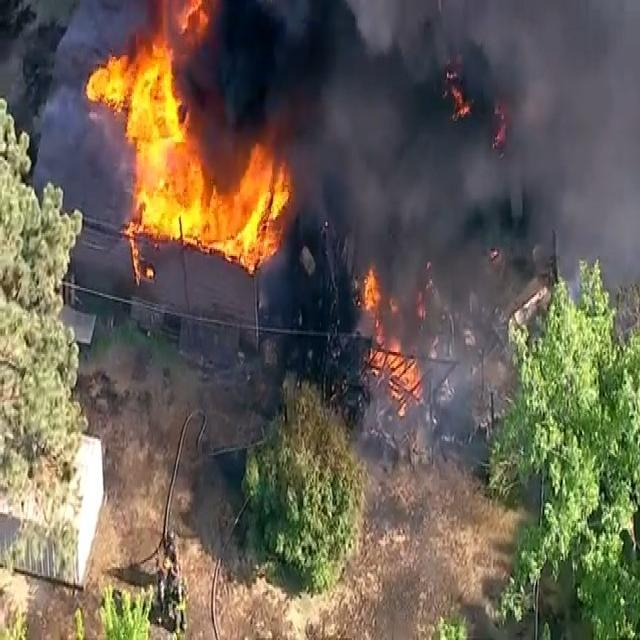Fire: (78, 0, 296, 284), (352, 270, 426, 414), (443, 65, 515, 158)
Smoke: (48, 0, 640, 316)
